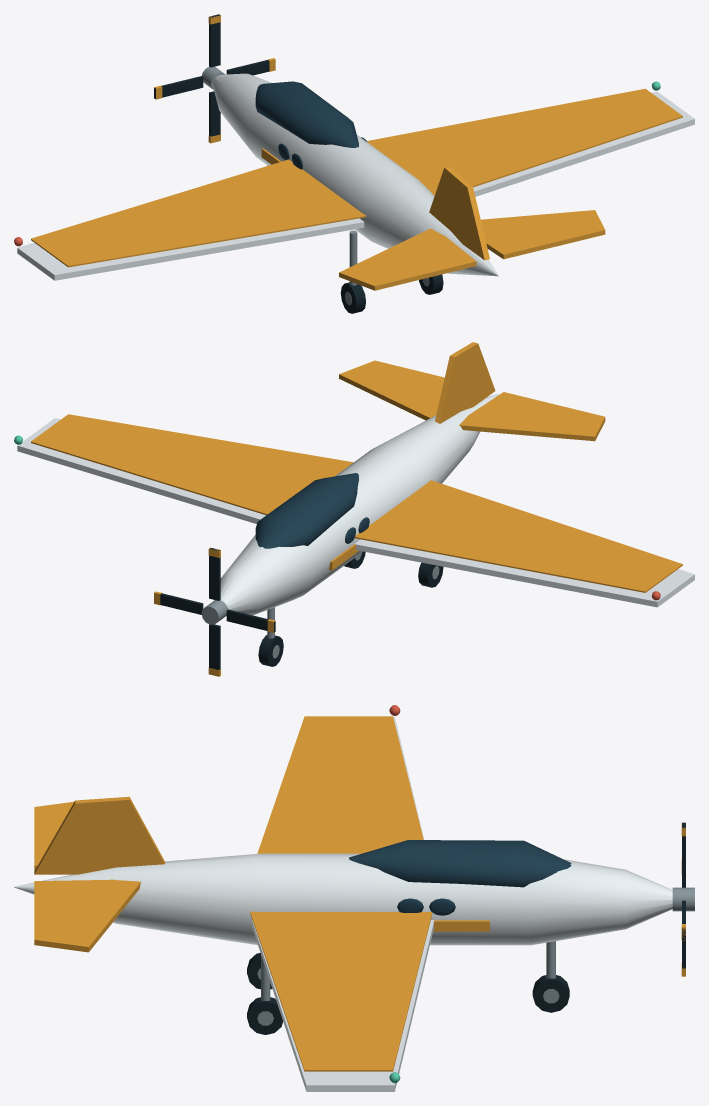
3 views of the same model, one above another, from view 1: azimuth 30°, elevation 25°; view 2: azimuth 150°, elevation 25°; view 3: azimuth 270°, elevation 25° (orthographic). The views are drawn at different scales.
Visible parts, largest first — view 1: 星雀 T-6 original model, propeller-starboard, landing-gear; view 2: 星雀 T-6 original model, propeller-starboard, landing-gear; view 3: 星雀 T-6 original model, landing-gear, propeller-starboard.
Boxes of the visible parts, <box> form: 星雀 T-6 original model: <box>14,73,694,290</box>; propeller-starboard: <box>154,14,275,143</box>; landing-gear: <box>267,165,443,313</box>; 星雀 T-6 original model: <box>14,342,694,616</box>; propeller-starboard: <box>154,547,275,676</box>; landing-gear: <box>258,551,443,666</box>; 星雀 T-6 original model: <box>14,705,672,1091</box>; landing-gear: <box>247,941,569,1034</box>; propeller-starboard: <box>672,822,694,976</box>.
Size of the model in its own units: 11.9 by 3.14 by 9.21.
